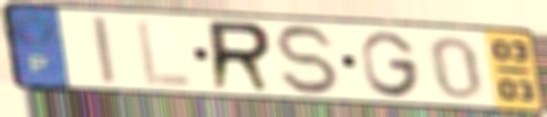0: (425, 34, 489, 101)
G: (357, 29, 424, 100)
I: (87, 14, 120, 86)
L: (132, 17, 196, 89)
R: (205, 17, 277, 94)
S: (270, 22, 346, 97)
